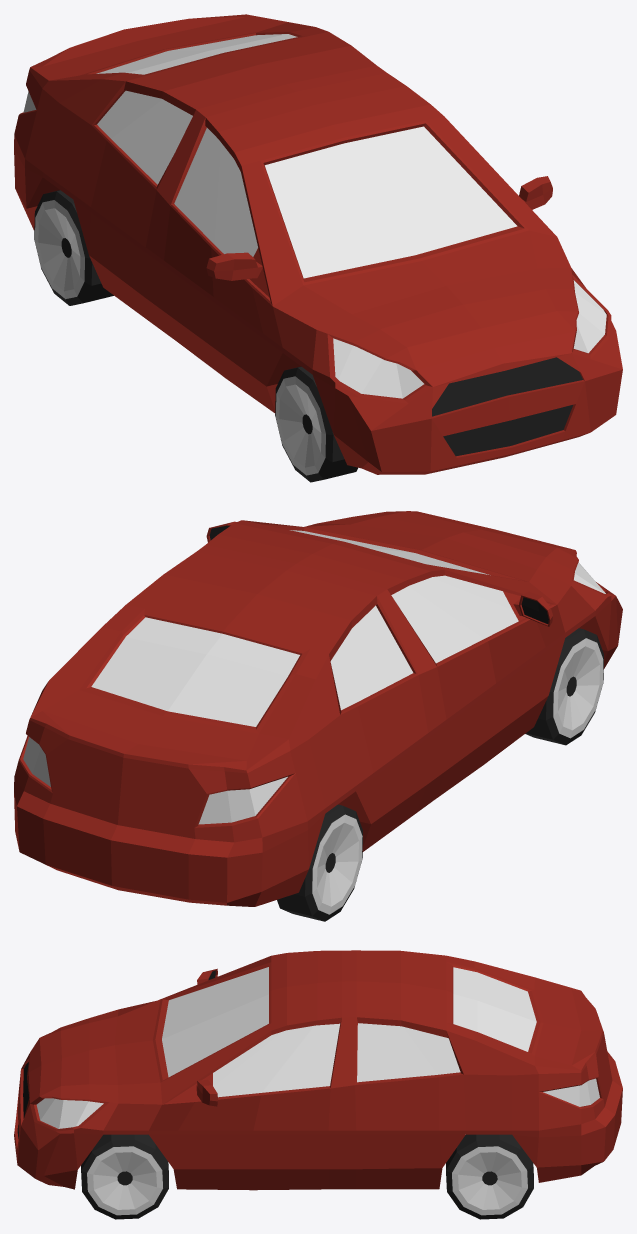
Rendered from 1red.fbx.
3 views of the same model, one above another, from view 1: azimuth 30°, elevation 25°; view 2: azimuth 150°, elevation 25°; view 3: azimuth 270°, elevation 25° (orthographic). The views are drawn at different scales.
Visible parts, largest first — view 1: Cylinder; view 2: Cylinder; view 3: Cylinder.
Part boxes in pixels (x1,y1,x2,y2): Cylinder: [14, 14, 622, 482]; Cylinder: [14, 511, 622, 921]; Cylinder: [14, 950, 622, 1219].
Size of the model in its own units: 147 by 101 by 297.
